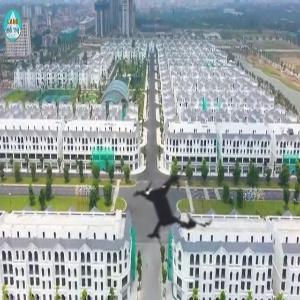drone: (97, 134, 243, 280)
